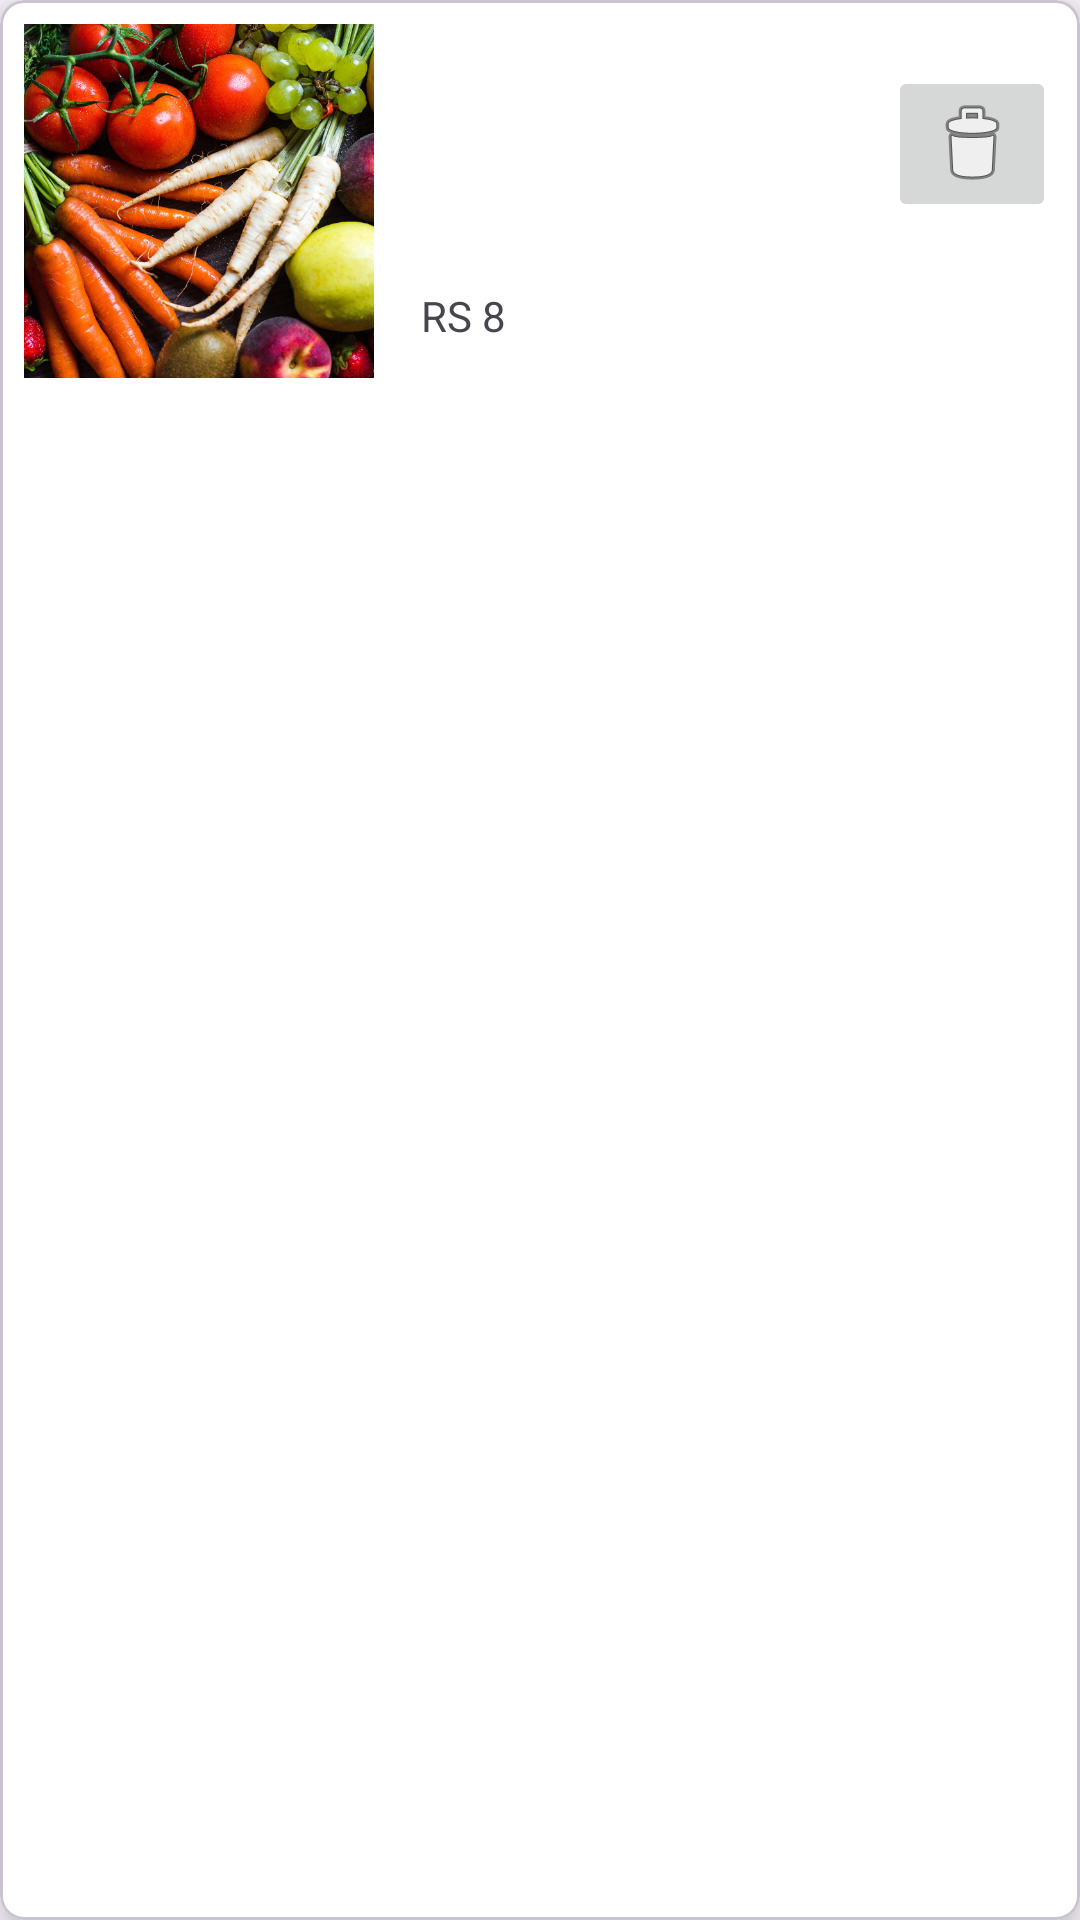

Icons on this 1080×1920 Android screen, each with its box as detection(x1, y1, x2, y2):
delete: detection(900, 84, 1044, 204)
produto: detection(24, 24, 374, 378)
